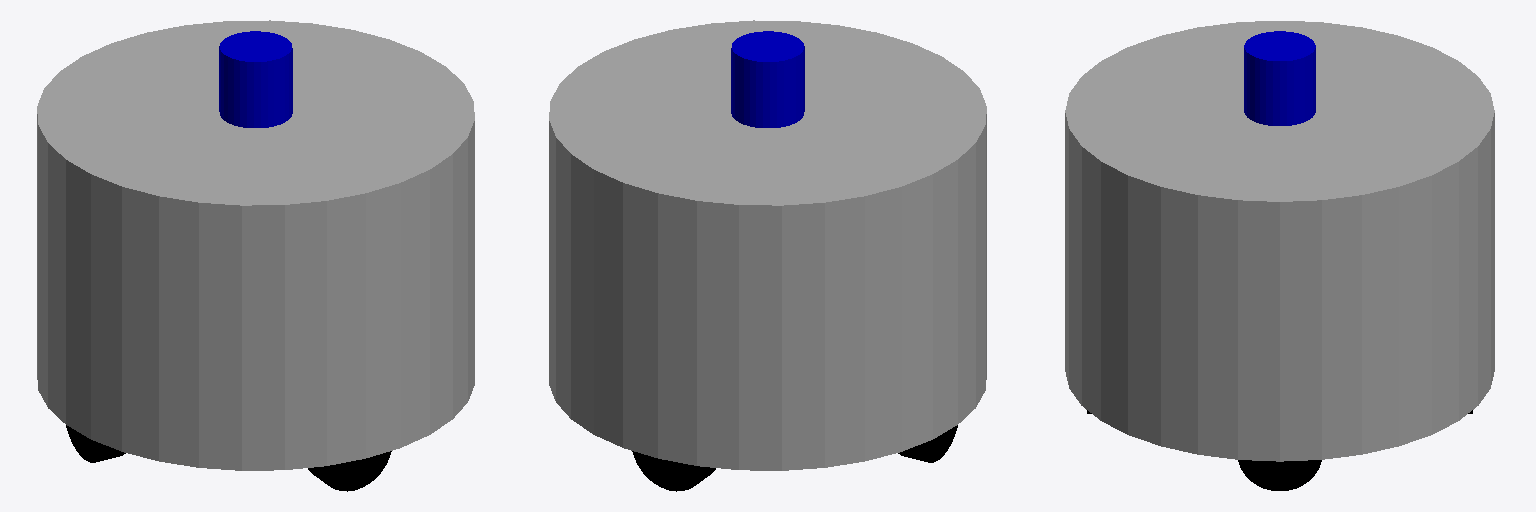
The robot description file, URDF, robot "sentry_robot":
<?xml version="1.0" ?>
<robot name="sentry_robot" xmlns:xacro="http://ros.org/wiki/xacro">

  <material name="black">
      <color rgba="0.0 0.0 0.0 1.0"/>
  </material>
  <material name="dark_grey">
    <color rgba="0.3 0.3 0.3 1.0"/>
  </material>
  <material name="light_grey">
    <color rgba="0.7 0.7 0.7 1.0"/>
  </material>
  <material name="blue">
    <color rgba="0.0 0.0 0.8 1.0"/>
  </material>

  <link name="base_footprint"/>

  <joint name="base_joint" type="fixed">
    <parent link="base_footprint"/>
    <child link="base_link" />
    <origin xyz="0 0 0.06" rpy="0 0 0"/>
  </joint>

  <link name="base_link">
    <visual>
      <origin xyz="0 0 0.20" rpy="0 0 0"/>
      <geometry>
        <cylinder radius="0.30" length="0.40"/>
      </geometry>
      <material name="light_grey"/>
    </visual>

    <collision>
      <origin xyz="0 0 0.20" rpy="0 0 0"/>
      <geometry>
        <cylinder radius="0.30" length="0.40"/>
      </geometry>
    </collision>

    <inertial>
      <origin xyz="0 0 0.20" rpy="0 0 0"/>
      <mass value="15.0"/>
      <inertia ixx="0.5375" ixy="0.0" ixz="0.0"
               iyy="0.5375" iyz="0.0"
               izz="0.675" />
    </inertial>
  </link>

  <joint name="wheel_front_joint" type="continuous">
    <parent link="base_link"/>
    <child link="wheel_front_link"/>
    <origin xyz="0.25 0 0.0" rpy="0 1.570796 0"/>
    <axis xyz="0 0 1"/>
  </joint>

  <link name="wheel_front_link">
    <visual>
      <origin xyz="0 0 0" rpy="0 0 0"/>
      <geometry>
        <cylinder length="0.04" radius="0.06"/>
      </geometry>
      <material name="black"/>
    </visual>
    <collision>
      <origin xyz="0 0 0" rpy="0 0 0"/>
      <geometry>
        <cylinder length="0.04" radius="0.06"/>
      </geometry>
    </collision>
    <inertial>
      <origin xyz="0 0 0" />
      <mass value="0.5" />
      <inertia ixx="0.000516" ixy="0.0" ixz="0.0"
               iyy="0.000516" iyz="0.0"
               izz="0.0009" />
    </inertial>
  </link>

  <joint name="wheel_back_joint" type="continuous">
    <parent link="base_link"/>
    <child link="wheel_back_link"/>
    <origin xyz="-0.25 0 0.0" rpy="0 1.570796 0"/>
    <axis xyz="0 0 1"/>
  </joint>

  <link name="wheel_back_link">
    <visual>
      <origin xyz="0 0 0" rpy="0 0 0"/>
      <geometry>
        <cylinder length="0.04" radius="0.06"/>
      </geometry>
      <material name="black"/>
    </visual>
    <collision>
      <origin xyz="0 0 0" rpy="0 0 0"/>
      <geometry>
        <cylinder length="0.04" radius="0.06"/>
      </geometry>
    </collision>
    <inertial>
      <origin xyz="0 0 0" />
      <mass value="0.5" />
      <inertia ixx="0.000516" ixy="0.0" ixz="0.0"
               iyy="0.000516" iyz="0.0"
               izz="0.0009" />
    </inertial>
  </link>

  <joint name="wheel_left_joint" type="continuous">
    <parent link="base_link"/>
    <child link="wheel_left_link"/>
    <origin xyz="0 0.25 0.0" rpy="-1.570796 0 0"/>
    <axis xyz="0 0 1"/>
  </joint>

  <link name="wheel_left_link">
    <visual>
      <origin xyz="0 0 0" rpy="0 0 0"/>
      <geometry>
        <cylinder length="0.04" radius="0.06"/>
      </geometry>
      <material name="black"/>
    </visual>
    <collision>
      <origin xyz="0 0 0" rpy="0 0 0"/>
      <geometry>
        <cylinder length="0.04" radius="0.06"/>
      </geometry>
    </collision>
    <inertial>
      <origin xyz="0 0 0" />
      <mass value="0.5" />
      <inertia ixx="0.000516" ixy="0.0" ixz="0.0"
               iyy="0.000516" iyz="0.0"
               izz="0.0009" />
    </inertial>
  </link>

  <joint name="wheel_right_joint" type="continuous">
    <parent link="base_link"/>
    <child link="wheel_right_link"/>
    <origin xyz="0 -0.25 0.0" rpy="-1.570796 0 0"/>
    <axis xyz="0 0 1"/>
  </joint>

  <link name="wheel_right_link">
    <visual>
      <origin xyz="0 0 0" rpy="0 0 0"/>
      <geometry>
        <cylinder length="0.04" radius="0.06"/>
      </geometry>
      <material name="black"/>
    </visual>
    <collision>
      <origin xyz="0 0 0" rpy="0 0 0"/>
      <geometry>
        <cylinder length="0.04" radius="0.06"/>
      </geometry>
    </collision>
    <inertial>
      <origin xyz="0 0 0" />
      <mass value="0.5" />
      <inertia ixx="0.000516" ixy="0.0" ixz="0.0"
               iyy="0.000516" iyz="0.0"
               izz="0.0009" />
    </inertial>
  </link>

  <joint name="lidar_joint" type="fixed">
    <parent link="base_link"/>
    <child link="lidar_link"/>
    <origin xyz="0 0 0.45" rpy="3.14159 0 0"/> 
  </joint>

  <link name="lidar_link">
    <visual>
      <origin xyz="0 0 0" rpy="0 0 0"/>
      <geometry>
        <cylinder length="0.1" radius="0.05"/>
      </geometry>
      <material name="blue"/>
    </visual>
    <collision>
      <origin xyz="0 0 0" rpy="0 0 0"/>
      <geometry>
        <cylinder length="0.1" radius="0.05"/>
      </geometry>
    </collision>
    <inertial>
      <mass value="0.5" />
      <origin xyz="0 0 0" />
      <inertia ixx="0.000729" ixy="0.0" ixz="0.0"
               iyy="0.000729" iyz="0.0"
               izz="0.000625" />
    </inertial>
  </link>

</robot>

--- What the picture shows (computed from the rendered views, not written in the file) ---
3 views of the same robot in one strip: view 1: azimuth 30°, elevation 25°; view 2: azimuth 150°, elevation 25°; view 3: azimuth 270°, elevation 25° (orthographic).
Model sentry_robot with 7 links and 6 joints (4 continuous, 2 fixed), rooted at base_footprint, posed every joint at zero.
Links seen in each view (by area): view 1: base_link, lidar_link, wheel_right_link, wheel_back_link; view 2: base_link, lidar_link, wheel_left_link, wheel_back_link; view 3: base_link, lidar_link, wheel_front_link.
Link boxes in pixels (x1=…): base_link: x1=37, y1=20, x2=474, y2=470; lidar_link: x1=219, y1=31, x2=292, y2=127; wheel_right_link: x1=308, y1=451, x2=391, y2=491; wheel_back_link: x1=66, y1=425, x2=125, y2=462; base_link: x1=549, y1=20, x2=986, y2=470; lidar_link: x1=731, y1=31, x2=804, y2=127; wheel_left_link: x1=632, y1=451, x2=715, y2=491; wheel_back_link: x1=898, y1=425, x2=957, y2=462; base_link: x1=1065, y1=21, x2=1494, y2=461; lidar_link: x1=1244, y1=31, x2=1315, y2=125; wheel_front_link: x1=1238, y1=460, x2=1321, y2=490.
Bounding box of the posed robot: 0.6 × 0.6 × 0.56 m (x, y, z).
Geometry: primitives only (box / cylinder / sphere), no mesh files.
